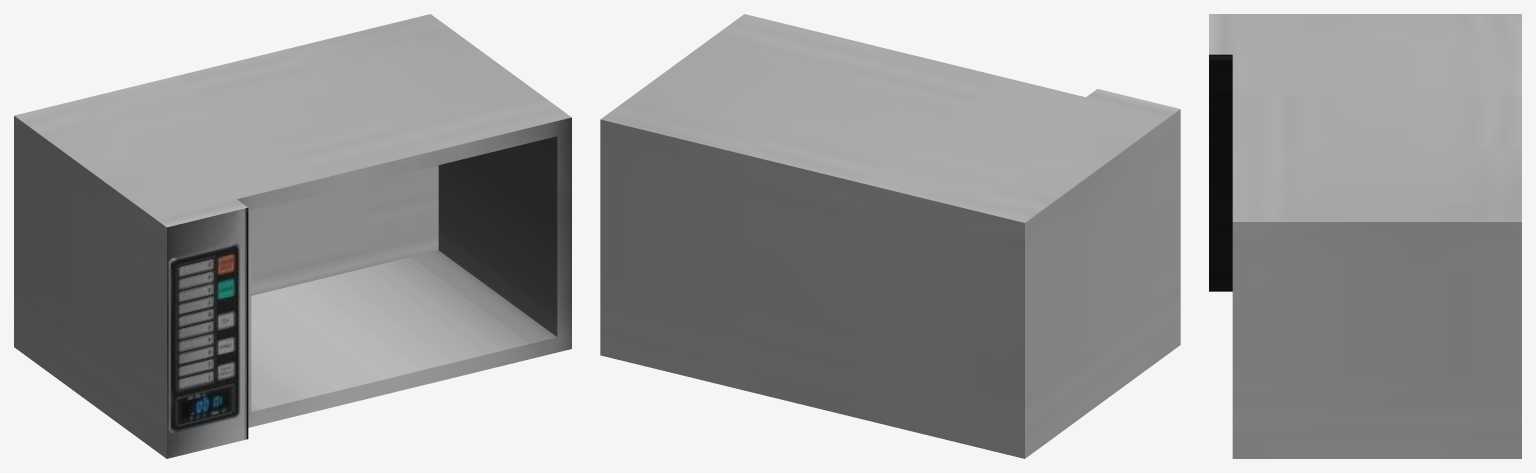
File: Microwave_03.glb
3 renders of one model, left to right at view 1: azimuth 30°, elevation 25°; view 2: azimuth 150°, elevation 25°; view 3: azimuth 270°, elevation 25°, orthographic. The views are drawn at different scales.
Parts seen in each view (by area): view 1: Microwave_03; view 2: Microwave_03; view 3: Microwave_03.
Part boxes in pixels (x1,y1,x2,y2): Microwave_03: (14, 14, 571, 458); Microwave_03: (600, 14, 1180, 458); Microwave_03: (1209, 14, 1521, 458).
Bounding box in the file's own units: 0.6887 × 0.3658 × 0.4376.
1 material, 1 textured.
